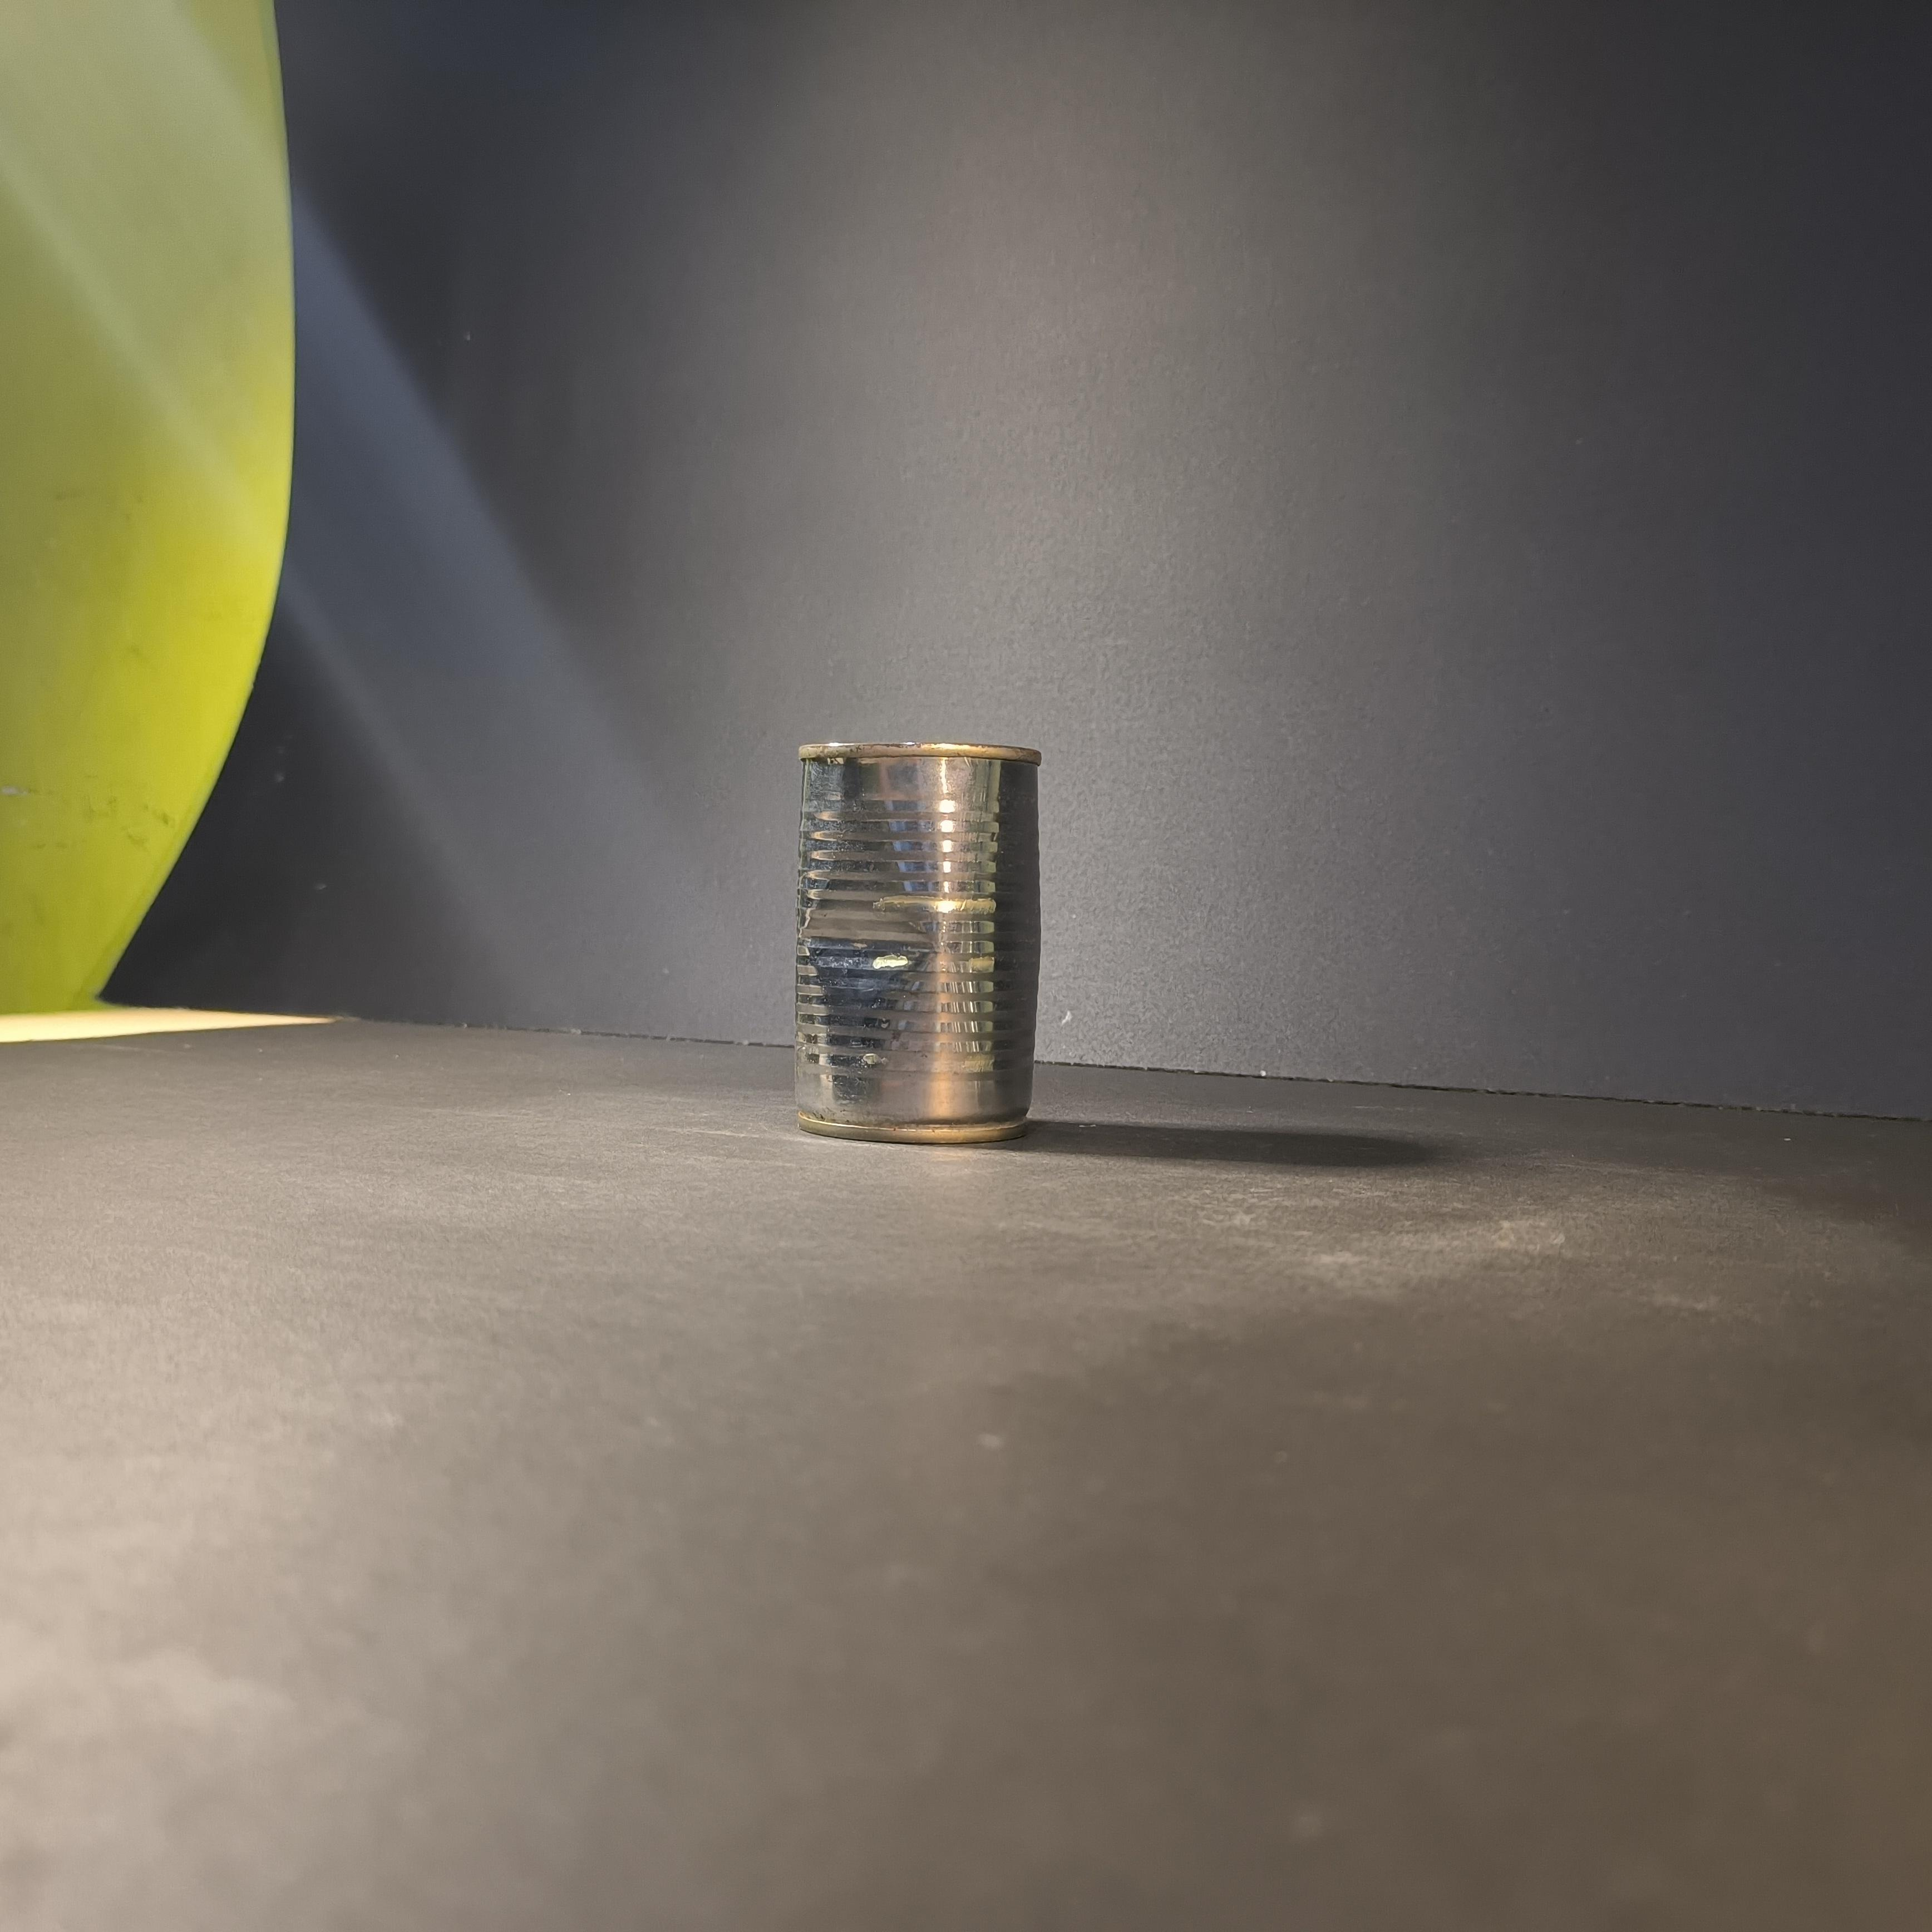Dented: (763, 715, 1070, 1161)
